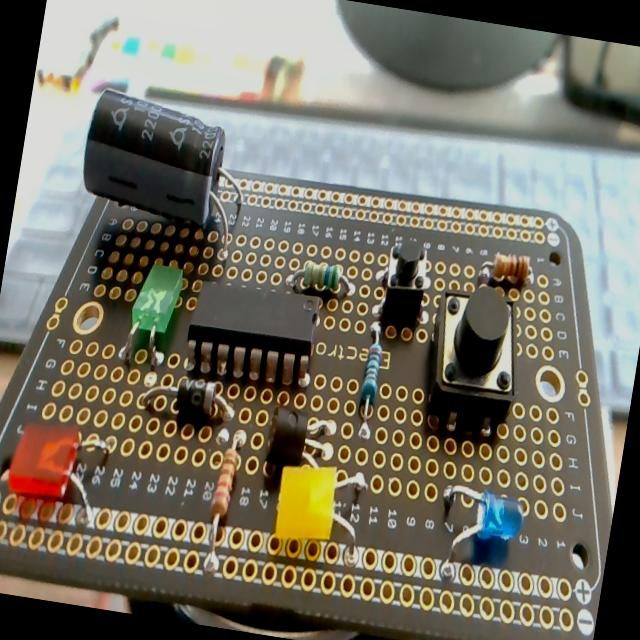Electrolytic capacitor: (67, 75, 271, 258)
IC: (180, 269, 324, 386)
diode: (138, 369, 240, 432), (286, 258, 358, 306)
led: (0, 402, 145, 544), (428, 474, 526, 574), (270, 458, 341, 550), (130, 260, 187, 338)
resistor: (200, 424, 250, 570), (476, 242, 542, 293), (357, 324, 387, 414)
switch: (419, 276, 532, 438), (372, 235, 438, 338)
transistor: (258, 402, 339, 486)
